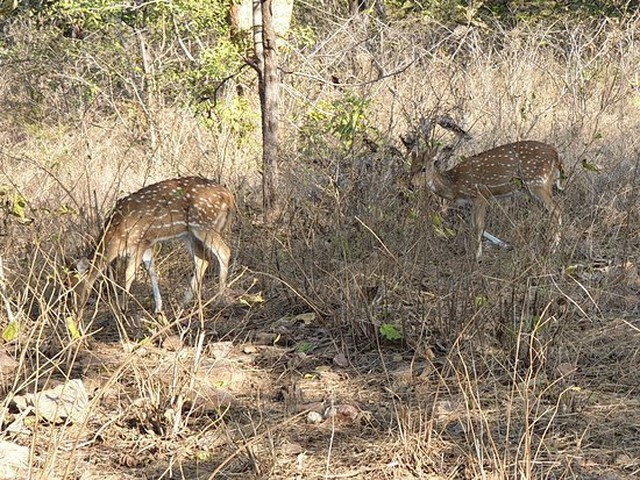deer: (58, 175, 246, 319), (406, 134, 576, 259)
